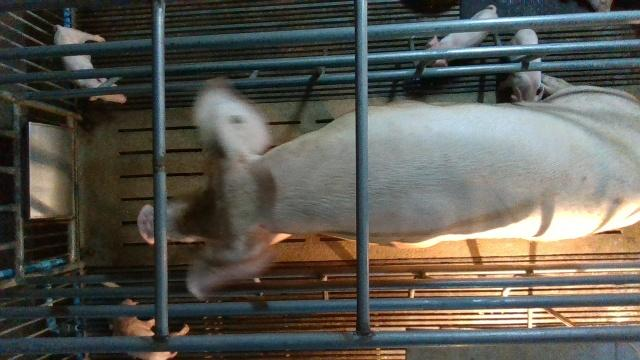piglet: (52, 23, 128, 105), (108, 297, 191, 360), (423, 5, 498, 66), (508, 28, 545, 102)
sow-stand: (136, 78, 640, 301)
